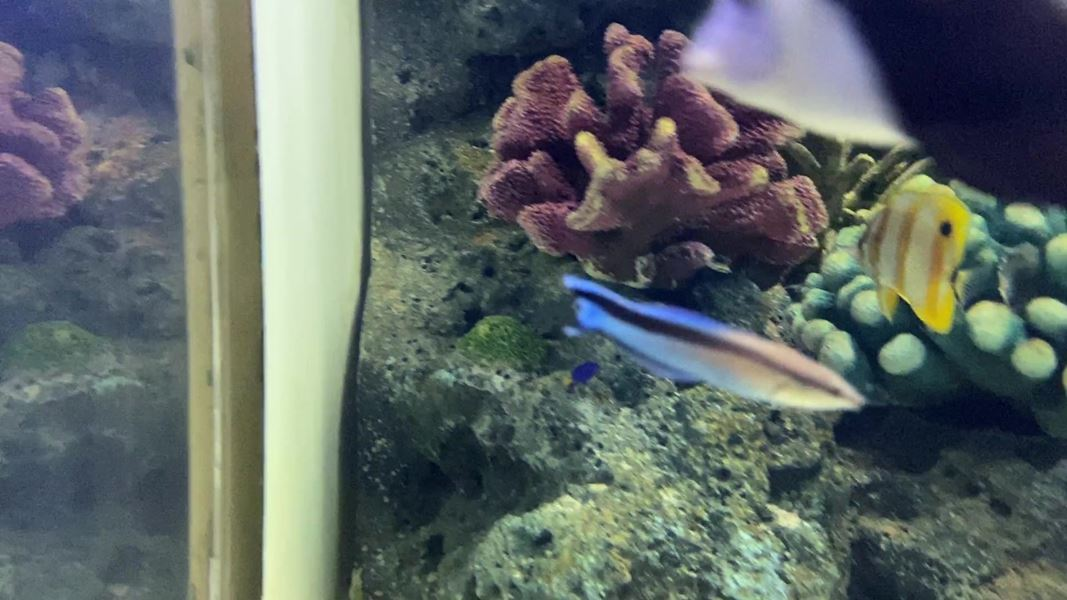Bluesteak cleaner wrasse: (544, 263, 873, 429)
